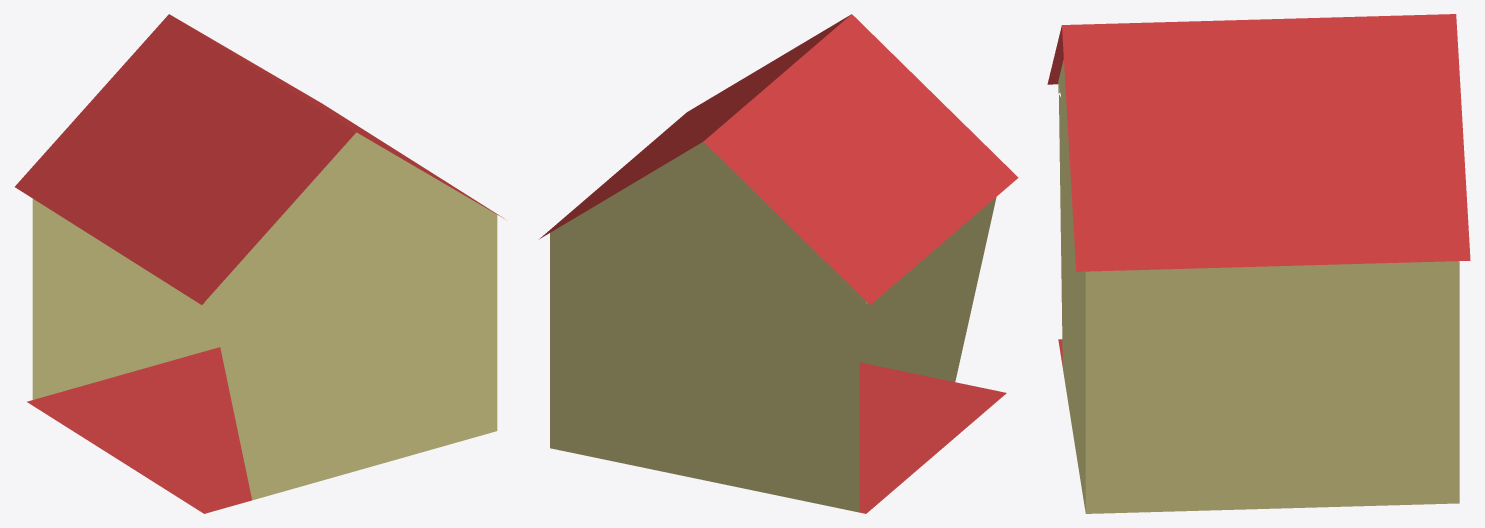
3 renders of one model, left to right at view 1: azimuth 30°, elevation 25°; view 2: azimuth 150°, elevation 25°; view 3: azimuth 270°, elevation 25°, orthographic. The views are drawn at different scales.
Bounding box in the file's own units: 11.24 × 10.35 × 10.86.
